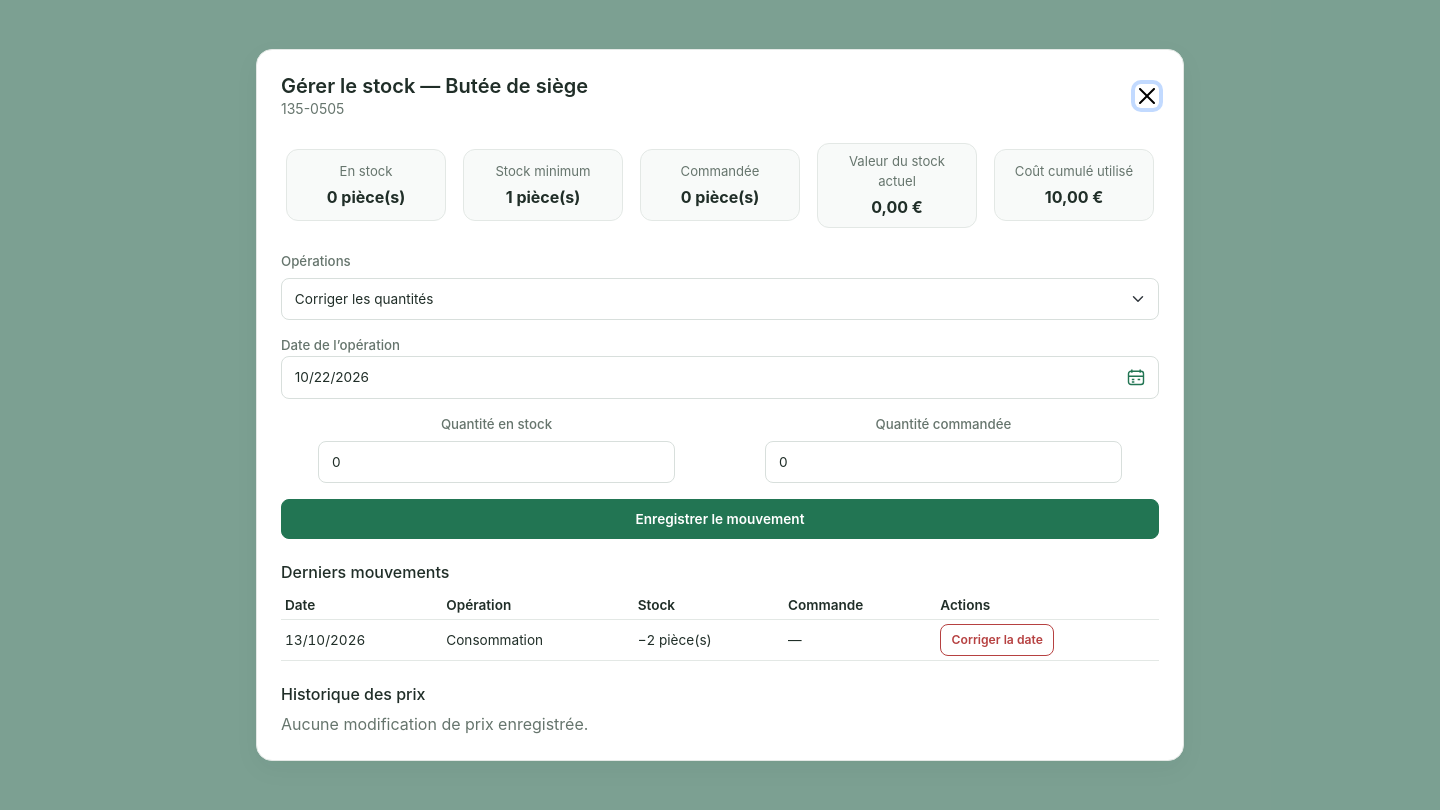
Test case: piece history date correction › keeps the editor and displays the API error when correction fails
Step 1. Click the button with aria-label "Corriger la date du mouvement" → (997, 640), box [940,624,1054,656]
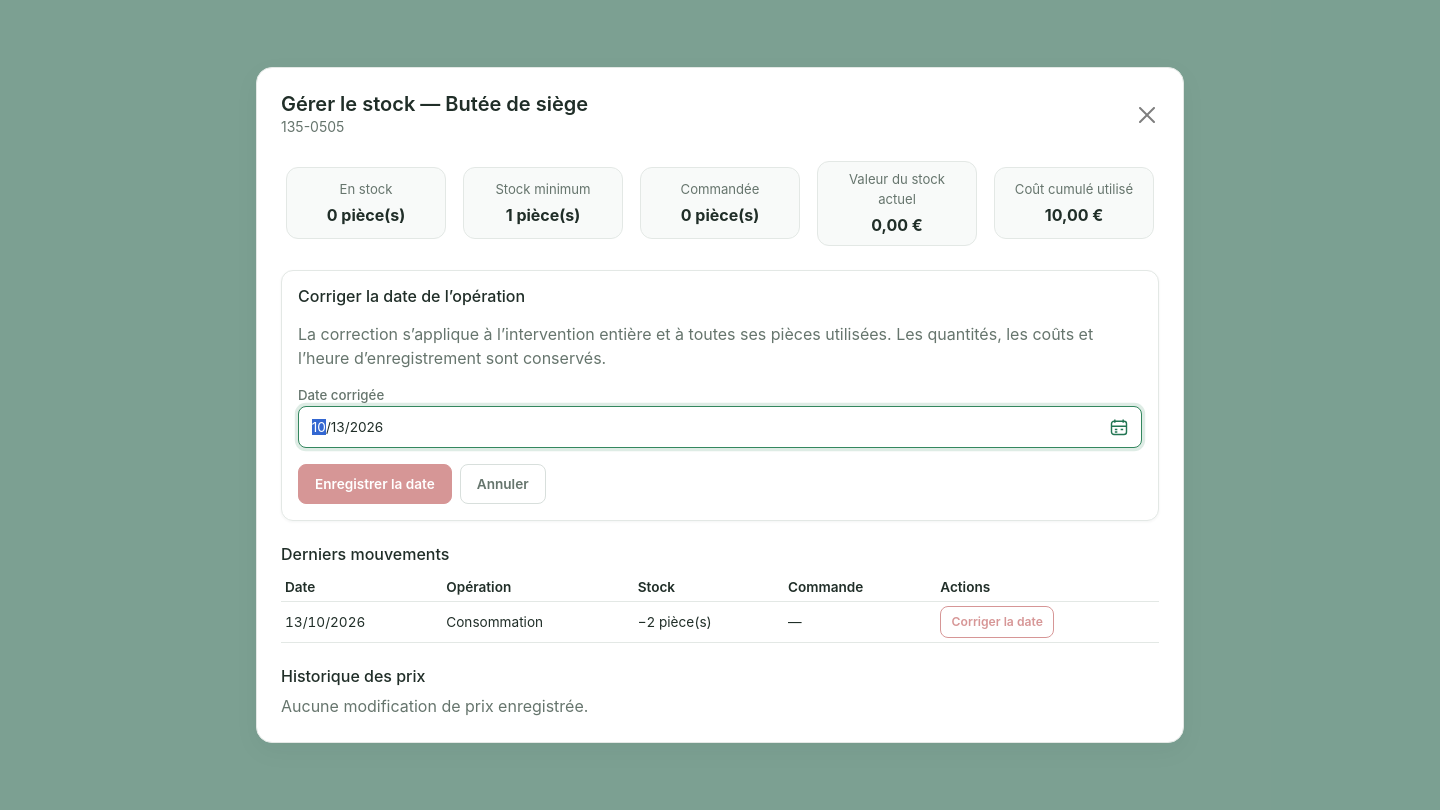
Step 2. Type "2026-09-19" into the date field labelled "Date corrigée" → (720, 427), box [298,406,1142,448]
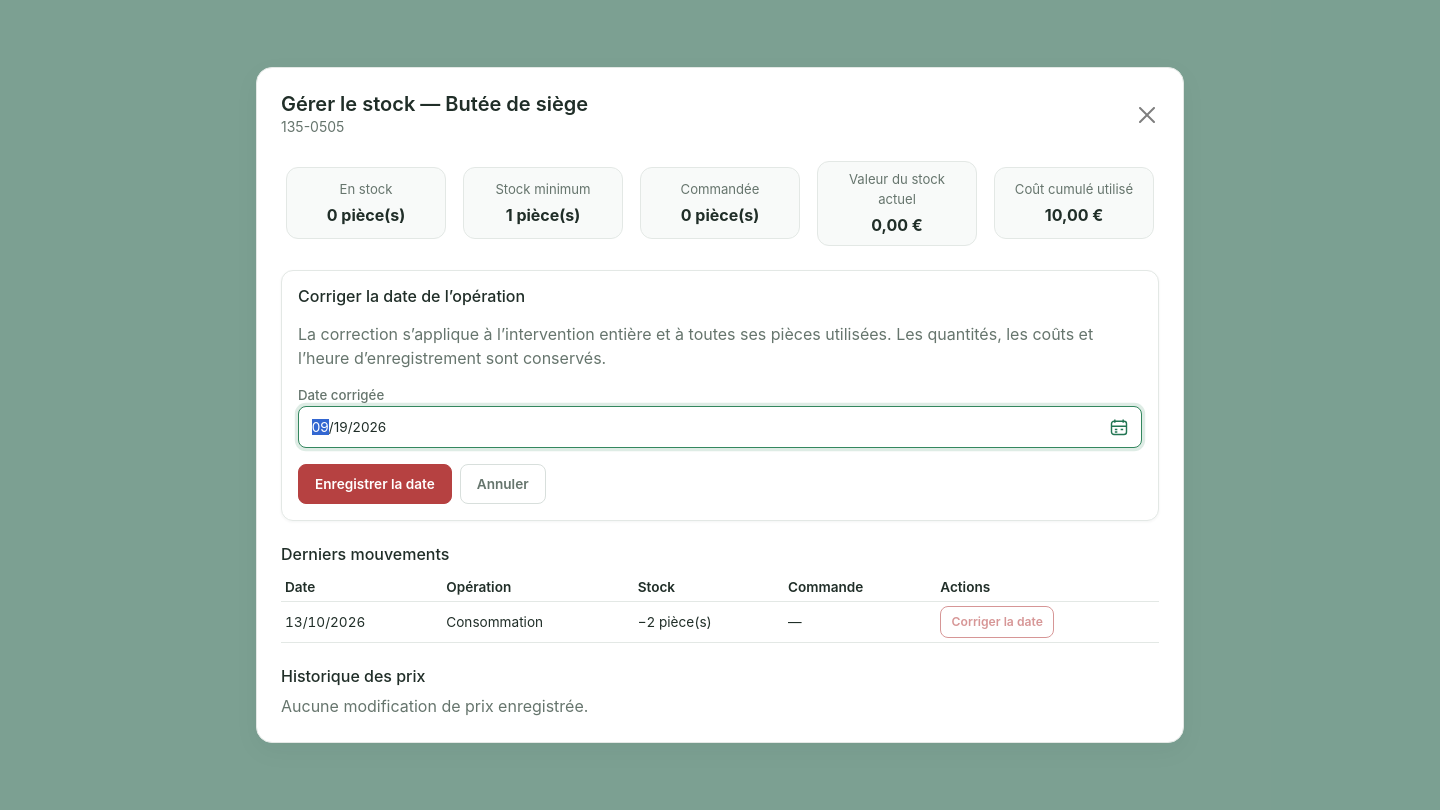
Step 3. Click the button "Enregistrer la date" → (375, 484), box [298,464,452,504]
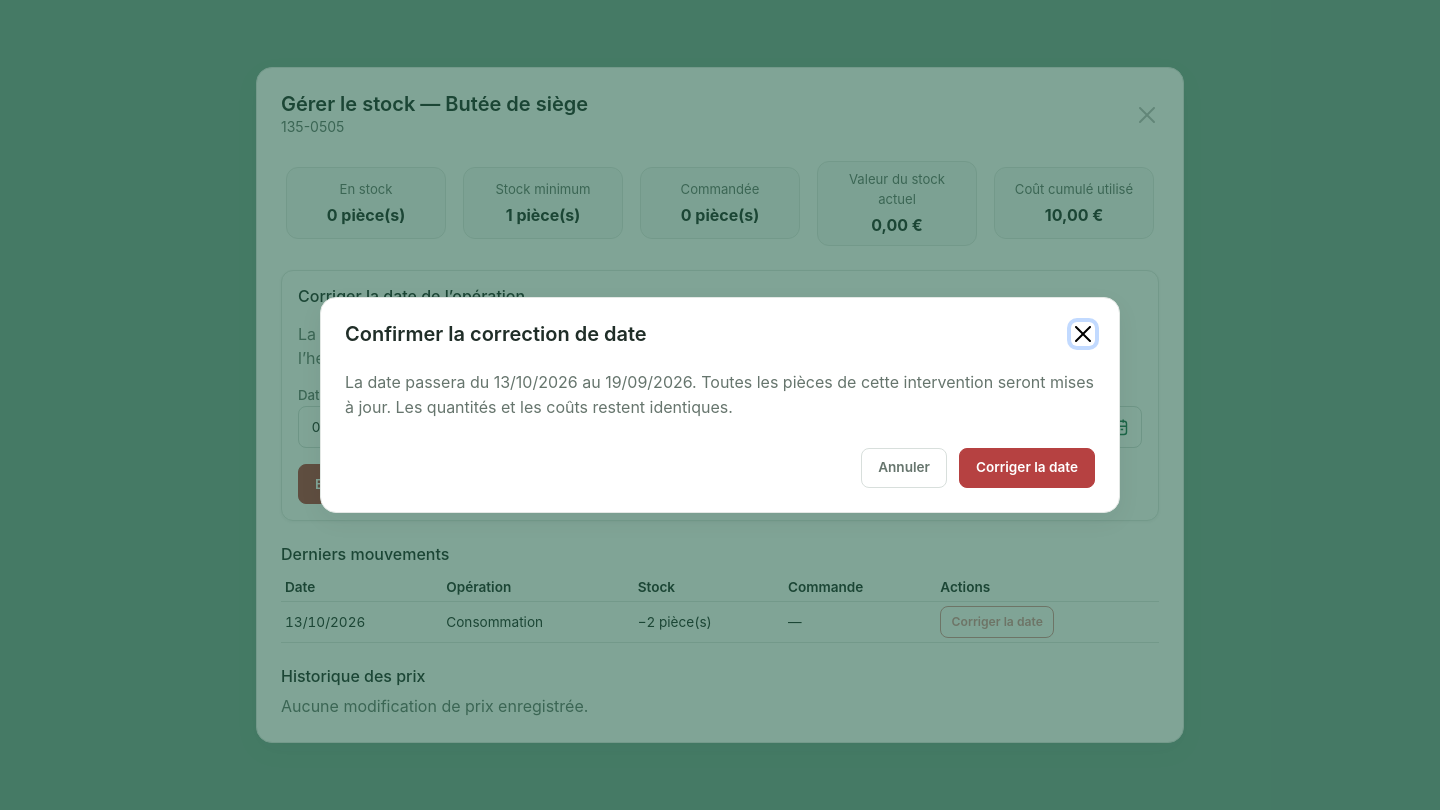
Step 4. Click the button "Corriger la date" → (1027, 468), box [959,448,1095,488]
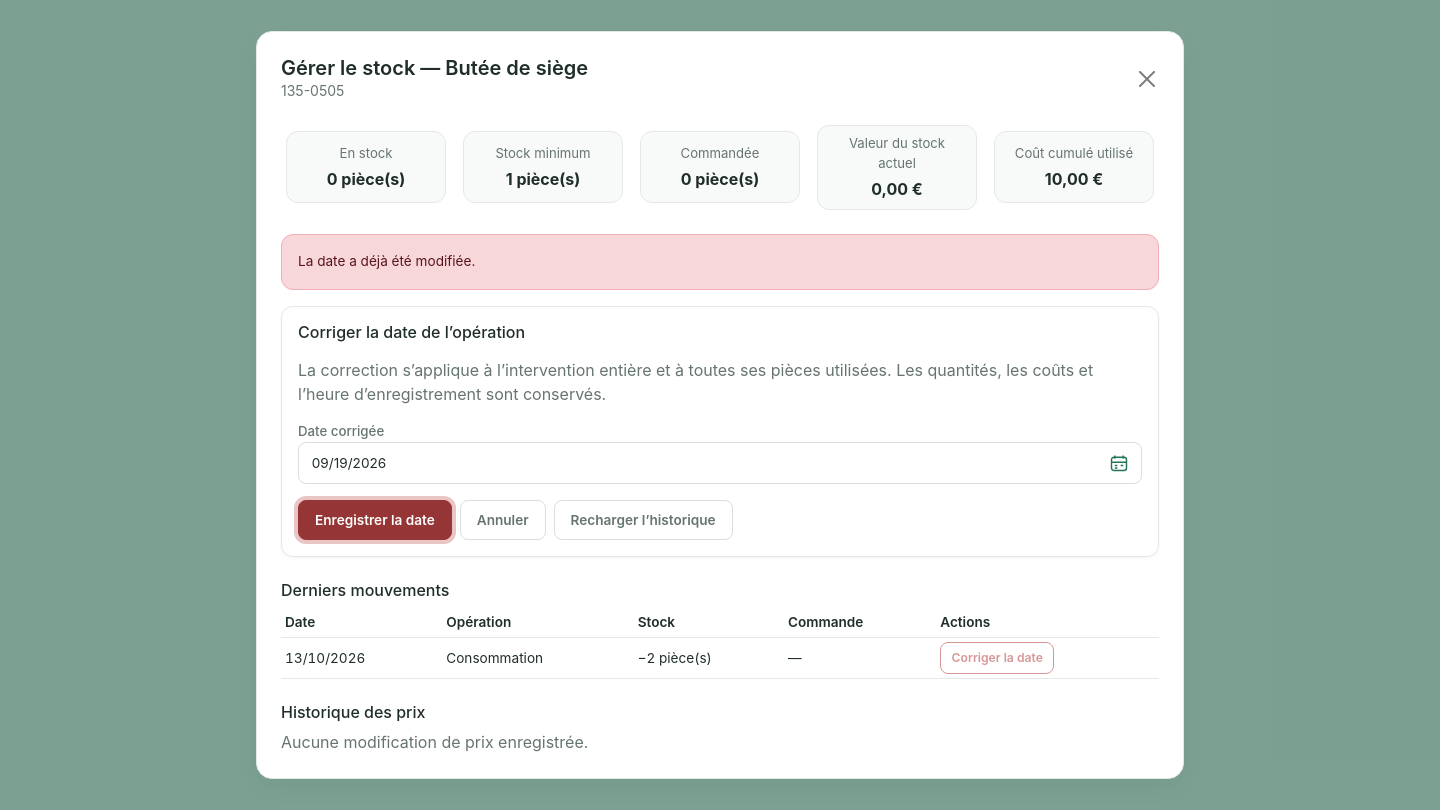
Expected: the message reads "La date a déjà été modifiée.", [298,253,475,269]
